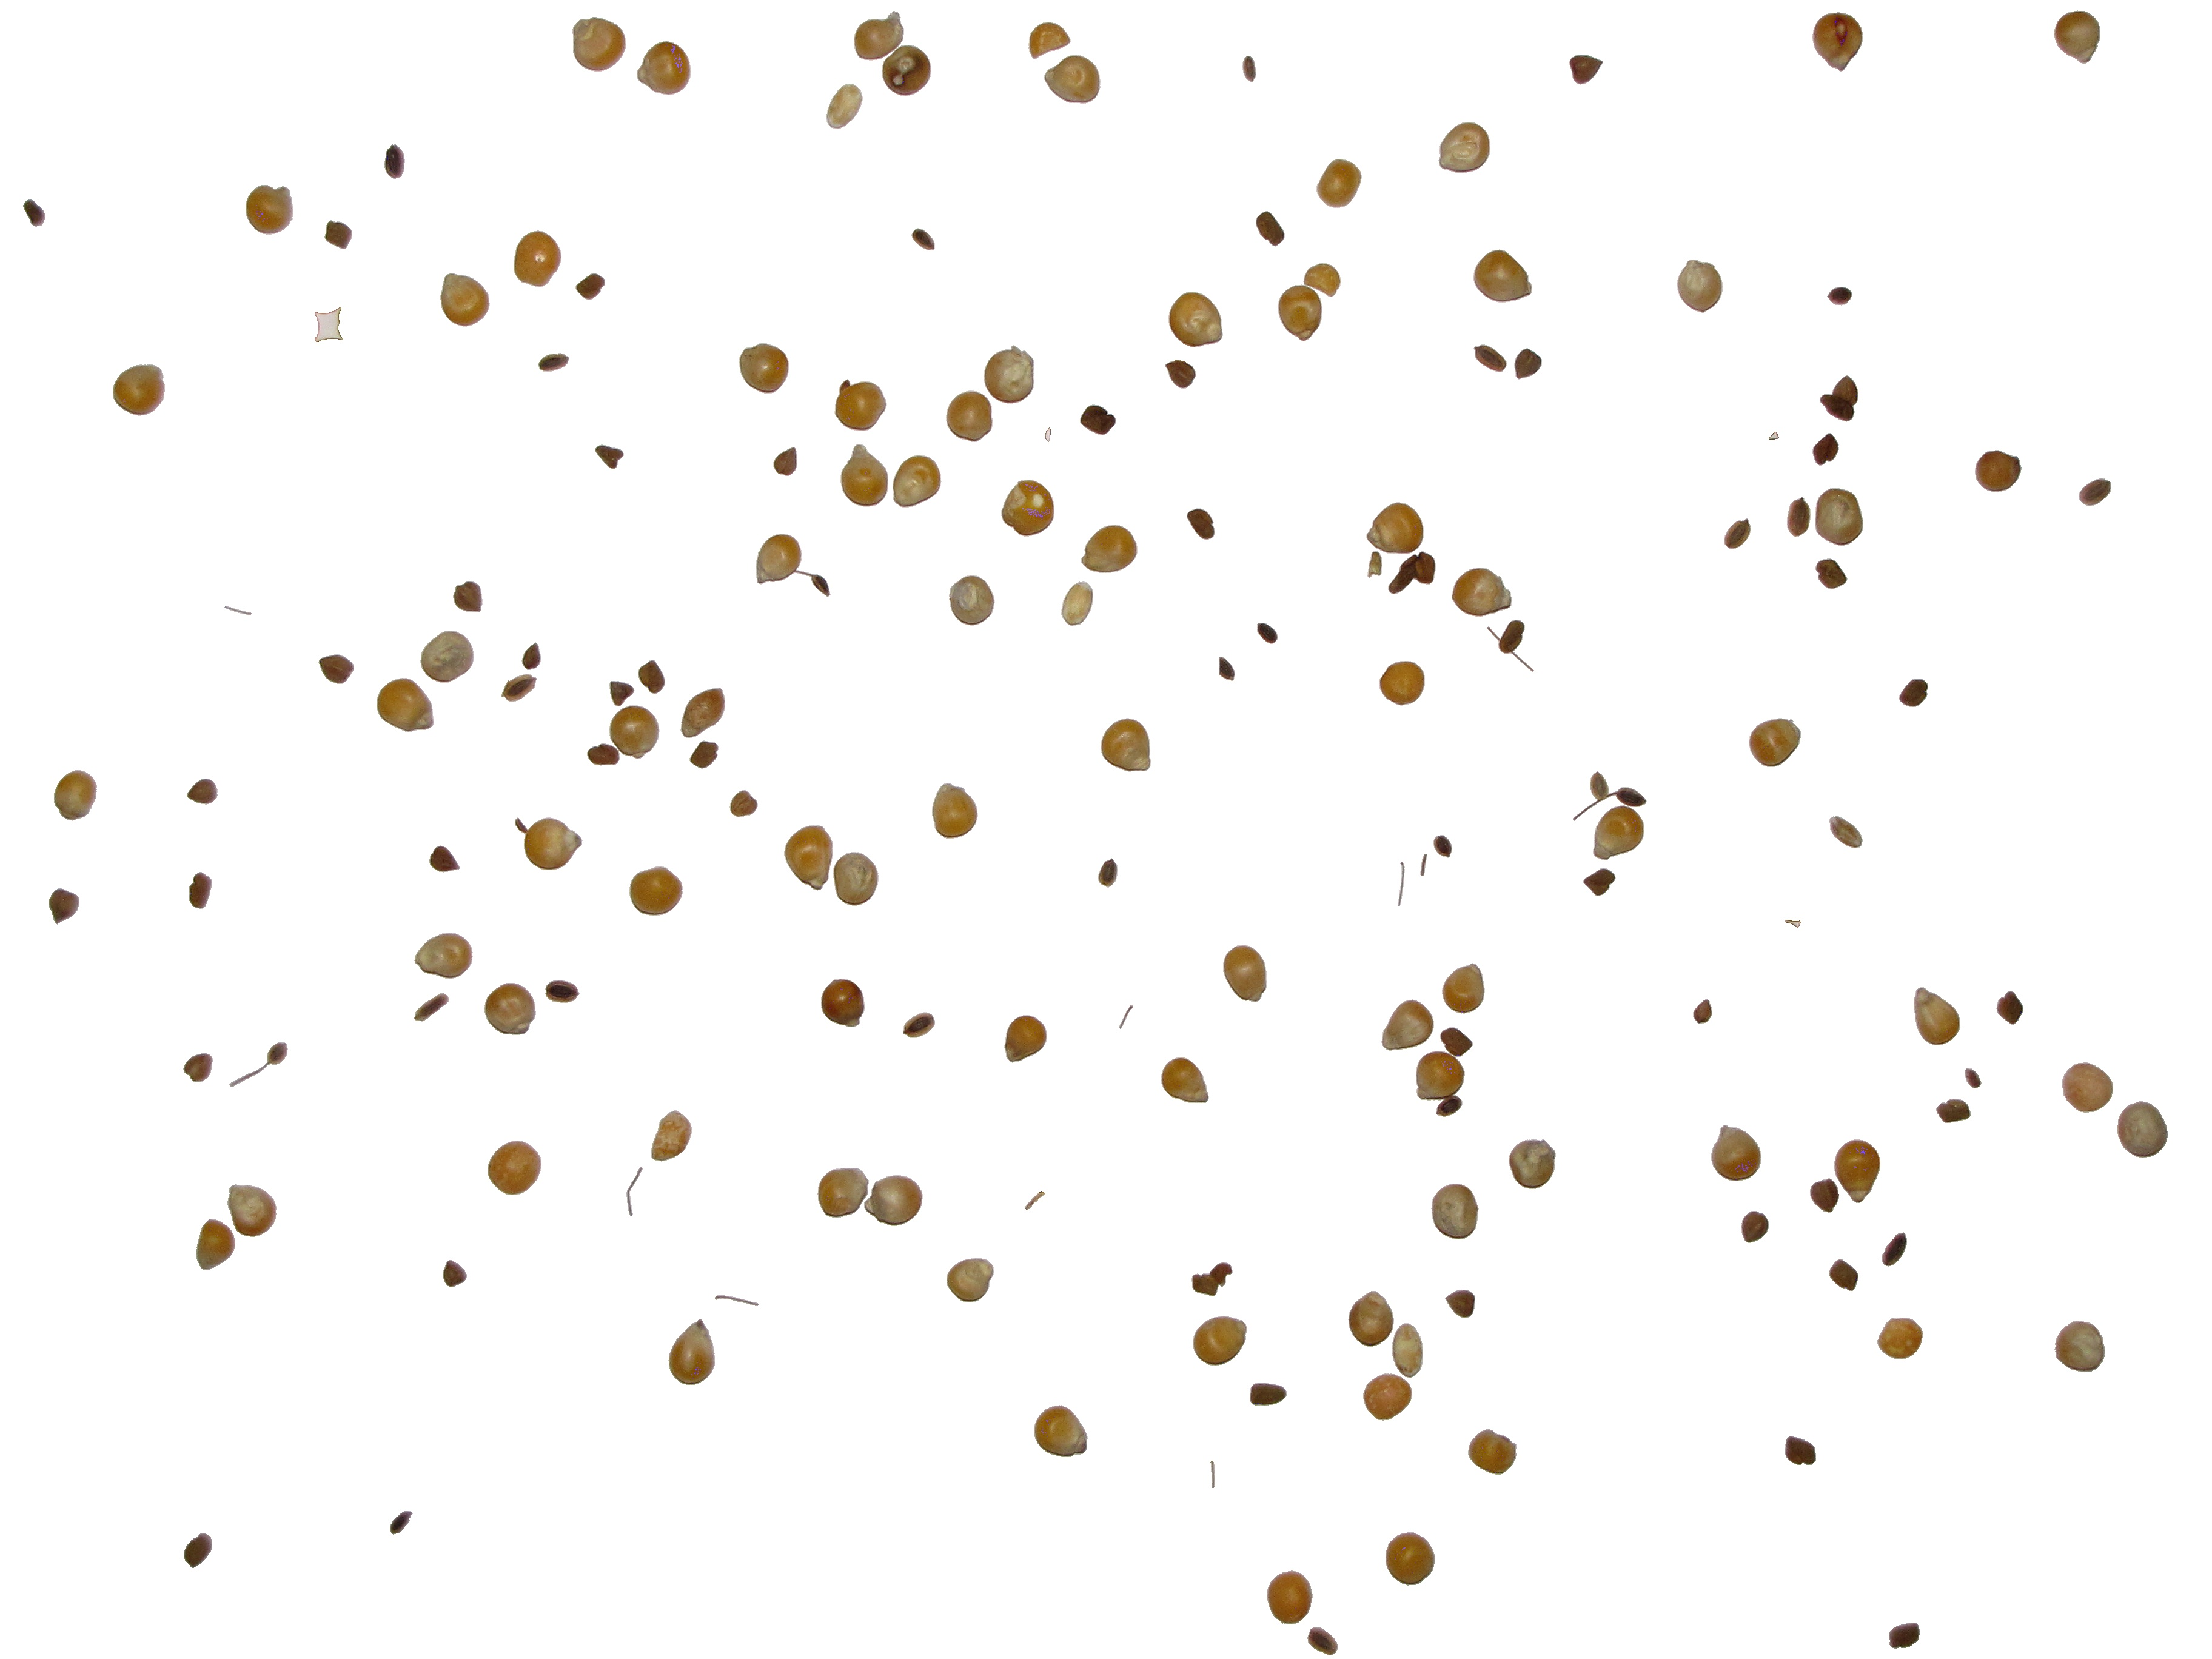buckwheat: (1388, 552, 1435, 594), (1820, 376, 1858, 422), (1193, 1263, 1233, 1297), (1080, 404, 1116, 434), (49, 889, 78, 924), (415, 993, 449, 1021), (502, 674, 536, 702), (1256, 211, 1284, 246), (1811, 1178, 1839, 1213), (319, 655, 354, 683), (1440, 1028, 1474, 1056), (1569, 56, 1602, 84), (1787, 497, 1810, 537), (183, 1053, 212, 1082), (1817, 559, 1846, 589), (1785, 1436, 1815, 1466), (453, 582, 482, 612), (1583, 868, 1615, 896), (1165, 361, 1197, 389), (1831, 1260, 1858, 1291), (1474, 345, 1507, 371), (1996, 992, 2022, 1025), (639, 660, 665, 694), (185, 1534, 211, 1567), (1883, 1232, 1907, 1267), (1308, 1628, 1338, 1656), (1446, 1290, 1475, 1317), (1813, 434, 1839, 465), (1188, 509, 1214, 540), (2080, 479, 2111, 505), (1742, 1211, 1768, 1243), (690, 741, 718, 769), (430, 845, 460, 871), (1724, 519, 1750, 549), (1515, 349, 1541, 378), (1890, 1622, 1919, 1649), (904, 1014, 935, 1039), (1937, 1100, 1970, 1122), (577, 274, 604, 300), (730, 791, 758, 817), (326, 221, 352, 249), (1900, 680, 1928, 706), (190, 873, 211, 908), (1251, 1384, 1285, 1405), (188, 779, 218, 803), (1611, 781, 1641, 805), (545, 981, 578, 1002), (596, 444, 624, 469), (587, 744, 618, 765), (442, 1260, 467, 1286), (385, 145, 404, 178), (773, 448, 796, 476), (610, 681, 634, 706), (24, 200, 45, 227), (538, 354, 570, 371), (390, 1511, 413, 1534), (1099, 859, 1116, 887), (1693, 999, 1712, 1023), (523, 643, 540, 669), (913, 228, 934, 249), (1827, 288, 1851, 305), (1258, 624, 1278, 643), (1433, 835, 1451, 857), (1219, 657, 1235, 680), (1244, 56, 1256, 82), (1965, 1068, 1980, 1087)
dill: (230, 1056, 268, 1087), (1500, 647, 1534, 671), (627, 1168, 643, 1216), (714, 1295, 759, 1305), (1367, 552, 1381, 577), (1026, 1192, 1045, 1209), (1120, 1007, 1134, 1030), (225, 606, 251, 615), (1399, 863, 1404, 906), (1785, 920, 1801, 927), (1421, 854, 1426, 875), (1211, 1460, 1214, 1486), (1045, 429, 1050, 441), (1770, 432, 1778, 439)
mais: (516, 817, 582, 870), (784, 826, 833, 890), (378, 678, 434, 732), (1474, 249, 1531, 301), (841, 444, 888, 507), (669, 1319, 714, 1384), (1169, 293, 1223, 347), (1367, 502, 1423, 554), (1001, 481, 1054, 537), (984, 345, 1035, 403), (1813, 12, 1862, 71), (1453, 568, 1512, 617), (864, 1176, 923, 1225), (1834, 1140, 1879, 1202), (488, 1141, 542, 1194), (573, 17, 625, 71), (2118, 1101, 2168, 1157), (637, 42, 690, 94), (1594, 805, 1644, 859), (1712, 1126, 1761, 1182), (1815, 488, 1862, 545), (1381, 1000, 1433, 1051), (834, 380, 887, 430), (421, 631, 474, 681), (1035, 1406, 1087, 1457), (1193, 1316, 1247, 1364), (1101, 718, 1150, 772), (1082, 525, 1137, 572), (1045, 56, 1101, 103), (1914, 988, 1959, 1046), (415, 934, 472, 979), (514, 230, 559, 288), (819, 1168, 869, 1218), (1439, 122, 1489, 173), (113, 364, 164, 415), (1749, 718, 1801, 767), (892, 455, 941, 507), (441, 274, 489, 326), (1386, 1534, 1435, 1586), (610, 706, 658, 758), (486, 983, 535, 1035), (1432, 1185, 1479, 1239), (738, 343, 789, 392), (2062, 1063, 2113, 1112), (2055, 1321, 2104, 1371), (1416, 1051, 1465, 1101), (2054, 10, 2101, 63), (631, 868, 683, 915), (1348, 1291, 1393, 1345), (932, 784, 977, 838), (1278, 286, 1322, 342), (1224, 945, 1266, 1002), (855, 10, 904, 59), (946, 390, 993, 441), (883, 45, 930, 96), (228, 1185, 275, 1236), (1677, 260, 1723, 312), (246, 185, 293, 234), (949, 575, 995, 626), (1268, 1572, 1312, 1624), (834, 852, 878, 904), (1364, 1373, 1411, 1420), (1510, 1140, 1555, 1188), (1468, 1429, 1515, 1474), (1162, 1058, 1209, 1103), (1317, 160, 1362, 207), (681, 688, 725, 737), (54, 770, 96, 821), (1442, 964, 1484, 1012), (651, 1110, 691, 1161), (1379, 662, 1425, 706), (948, 1258, 993, 1302), (1005, 1016, 1047, 1063), (822, 979, 864, 1026), (756, 535, 798, 582), (197, 1220, 235, 1270), (1878, 1317, 1923, 1358), (1975, 451, 2020, 491), (1029, 23, 1069, 59), (1303, 263, 1341, 296)
other: (1393, 1324, 1423, 1378), (827, 84, 862, 129), (1062, 582, 1092, 626), (1831, 816, 1862, 847), (315, 307, 343, 342)
